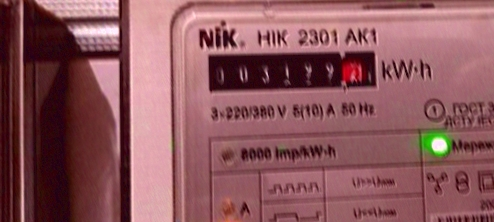0: (239, 65, 250, 84), (216, 66, 225, 84)
1: (283, 61, 292, 79)
3: (261, 65, 271, 85)
6: (349, 69, 359, 83)
9: (304, 60, 314, 80), (326, 62, 336, 80)
screen: (201, 44, 384, 99)
